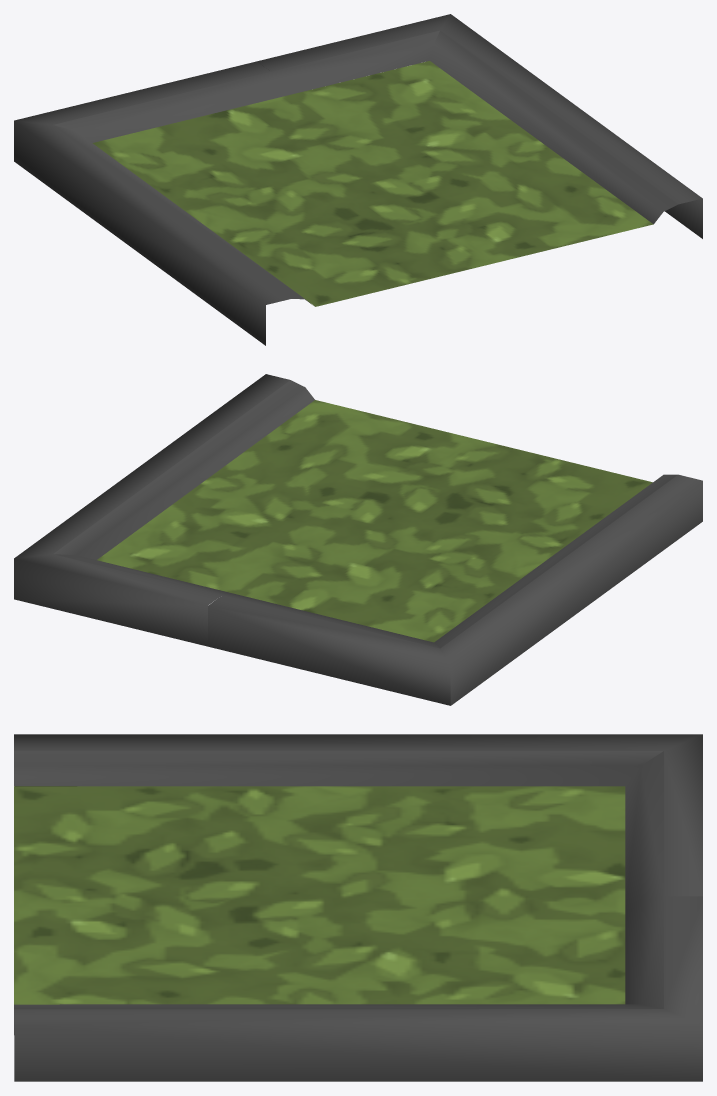
Rendered from GrassPlateau_Straight_End.fbx.
3 views of the same model, one above another, from view 1: azimuth 30°, elevation 25°; view 2: azimuth 150°, elevation 25°; view 3: azimuth 270°, elevation 25° (orthographic). The views are drawn at different scales.
Parts seen in each view (by area): view 1: Straight_End.003; view 2: Straight_End.003; view 3: Straight_End.003.
Boxes of the visible parts, x1,y1,x2,y2 form: Straight_End.003: [14, 14, 702, 345]; Straight_End.003: [14, 374, 702, 705]; Straight_End.003: [14, 734, 702, 1081].
Bounding box in the file's own units: 250 × 22.38 × 250.
